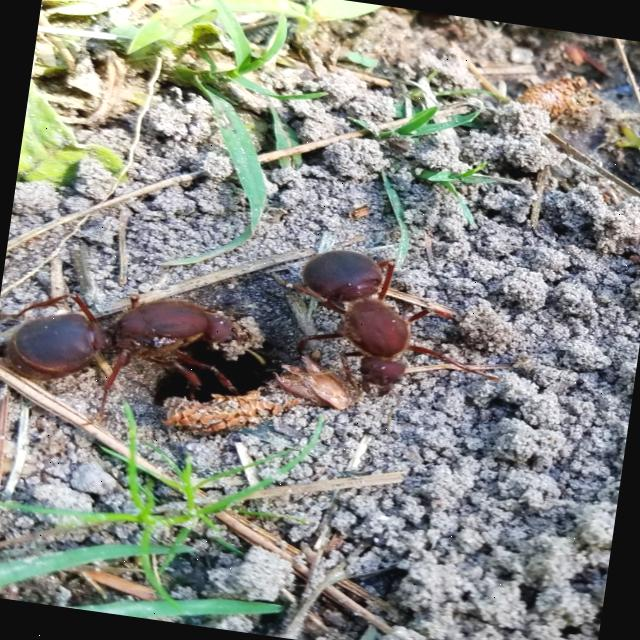Alive-Female-Dealate: (0, 274, 254, 449), (270, 242, 516, 415)
